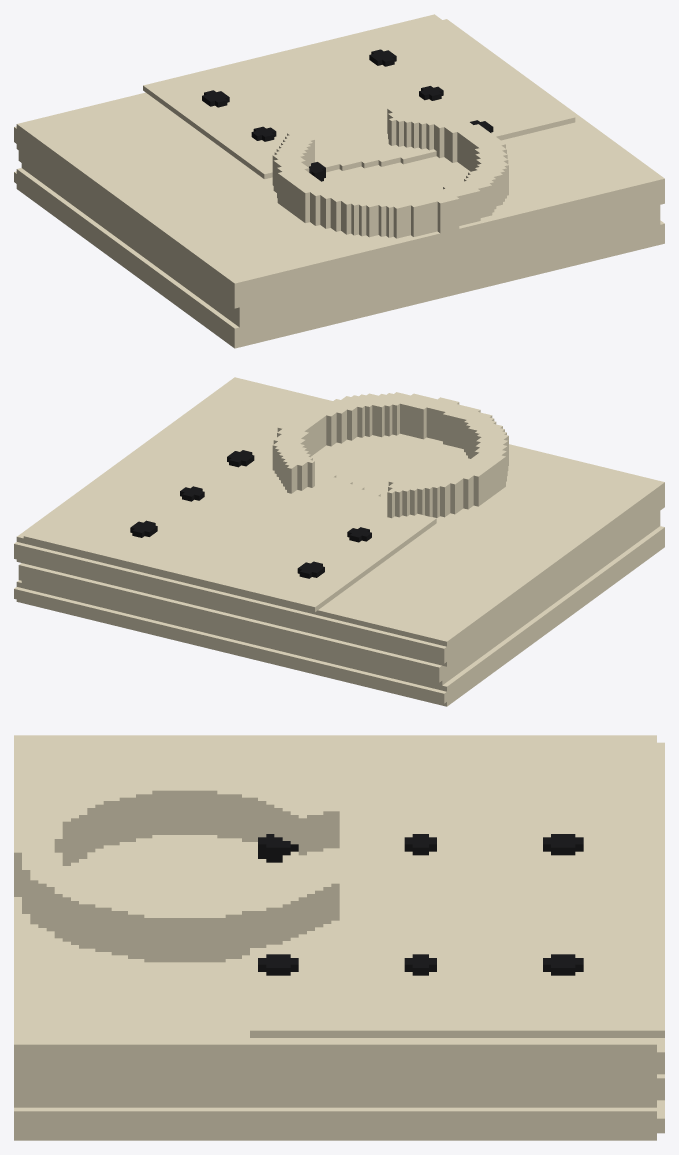
Rendered from jacket_chef.glb.
The picture shows the model from 3 angles, top to bottom: view 1: azimuth 30°, elevation 25°; view 2: azimuth 150°, elevation 25°; view 3: azimuth 270°, elevation 25°; orthographic projection. The views are drawn at different scales.
Visible parts, largest first — view 1: jacket_chef:compound; view 2: jacket_chef:compound; view 3: jacket_chef:compound.
Boxes of the visible parts, <box> form: jacket_chef:compound: <box>14,14,664,348</box>; jacket_chef:compound: <box>14,377,664,706</box>; jacket_chef:compound: <box>14,735,664,1140</box>.
Bounding box in the file's own units: 0.36 × 0.076 × 0.32.
